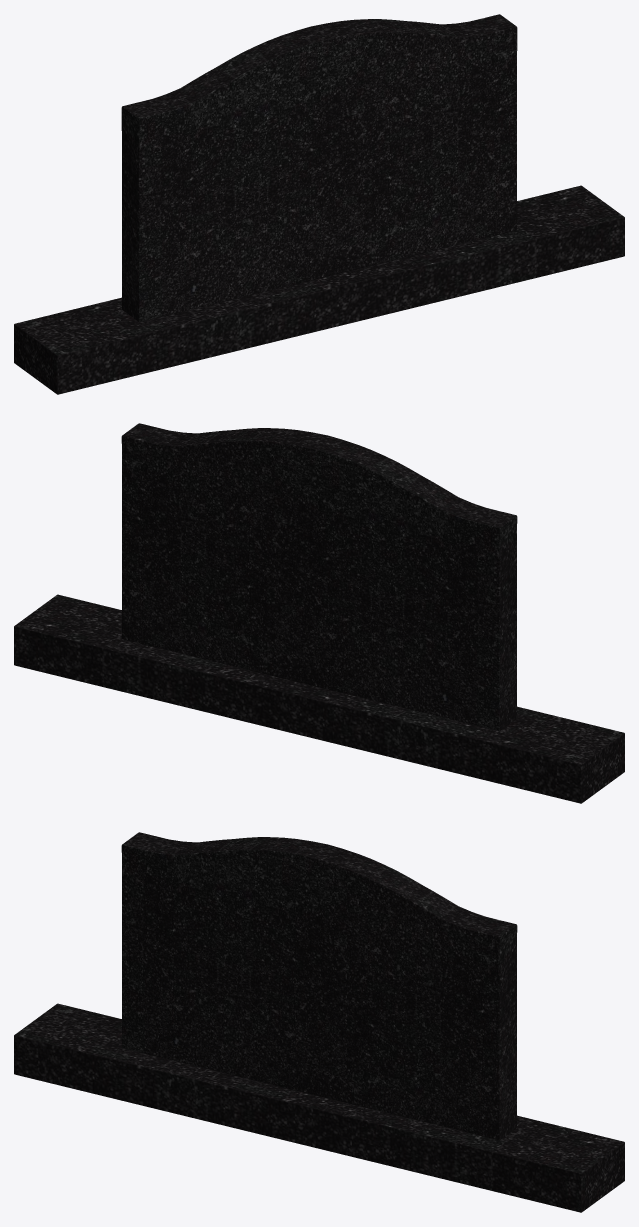
Rendered from Number 27.gltf.
The picture shows the model from 3 angles, top to bottom: view 1: azimuth 30°, elevation 25°; view 2: azimuth 150°, elevation 25°; view 3: azimuth 330°, elevation 25°; orthographic projection.
Parts seen in each view (by area): view 1: Cube.028, Cube.029; view 2: Cube.028, Cube.029; view 3: Cube.028, Cube.029.
Boxes of the visible parts, x1=… form: Cube.028: x1=121, y1=14, x2=517, y2=322; Cube.029: x1=14, y1=185, x2=624, y2=394; Cube.028: x1=121, y1=423, x2=517, y2=731; Cube.029: x1=14, y1=594, x2=624, y2=803; Cube.028: x1=121, y1=832, x2=517, y2=1140; Cube.029: x1=14, y1=1003, x2=624, y2=1212.
Size of the model in its own units: 1.5 by 0.7 by 0.2.
1 material, 1 textured.
